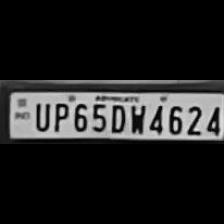2: (182, 102, 202, 136)
4: (202, 102, 222, 136), (146, 101, 164, 133)
5: (89, 100, 107, 132)
6: (70, 100, 88, 132), (164, 102, 182, 134)
D: (108, 100, 126, 132)
P: (50, 100, 68, 132)
U: (31, 99, 50, 131)
W: (127, 100, 145, 132)
